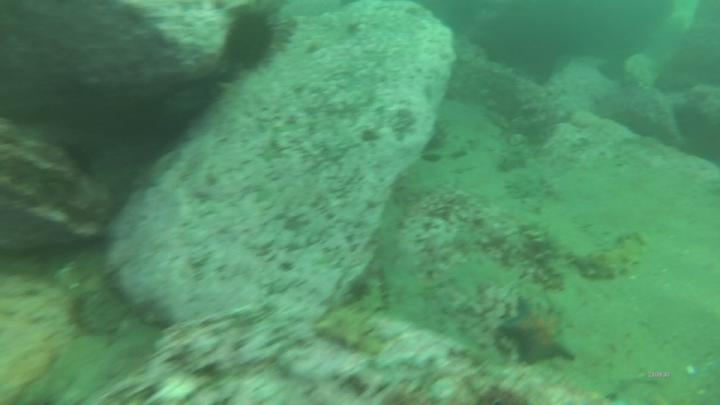echinus: (223, 11, 280, 73)
holothurian: (315, 301, 385, 360), (571, 230, 648, 280)
starfish: (505, 294, 577, 364)
